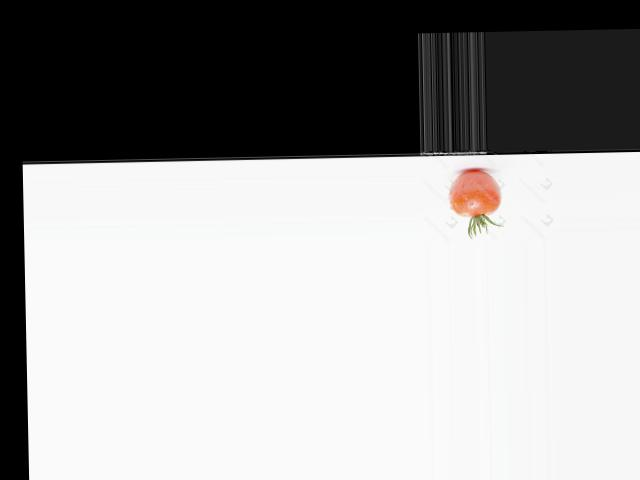tomato: (450, 168, 502, 216)
